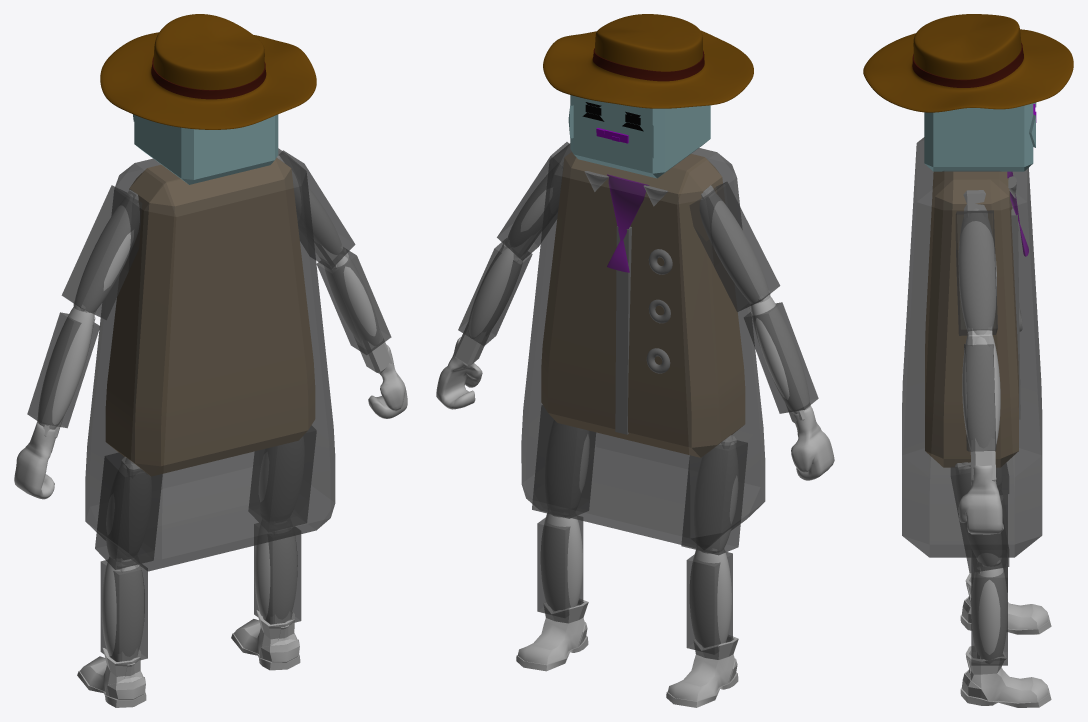
Rendered from lowpolycharactermainSECONDdraft.fbx.
3 renders of one model, left to right at view 1: azimuth 30°, elevation 25°; view 2: azimuth 150°, elevation 25°; view 3: azimuth 270°, elevation 25°, orthographic. The views are drawn at different scales.
Visible parts, largest first — view 1: Circle2; view 2: Circle2; view 3: Circle2.
Part boxes in pixels (box(x1,y1,x2,y2)): Circle2: box(14, 14, 407, 707); Circle2: box(436, 14, 834, 707); Circle2: box(863, 14, 1073, 707).
Bounding box in the file's own units: 31.6 × 50.62 × 15.21.
